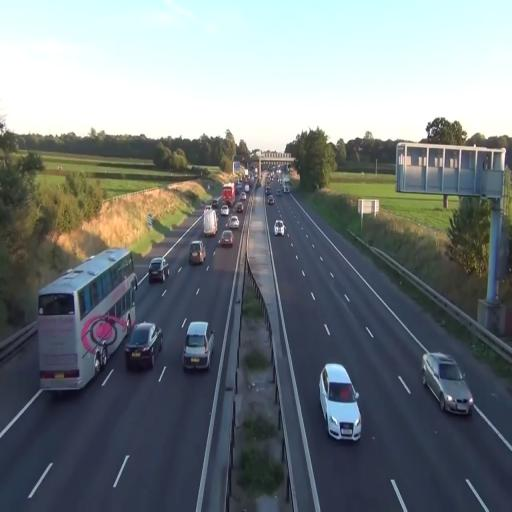vehicle: (37, 247, 138, 392), (318, 363, 362, 442), (422, 351, 474, 417), (125, 322, 162, 372), (182, 320, 213, 372), (148, 256, 170, 285), (189, 239, 206, 266), (218, 228, 234, 248), (274, 218, 285, 236)
